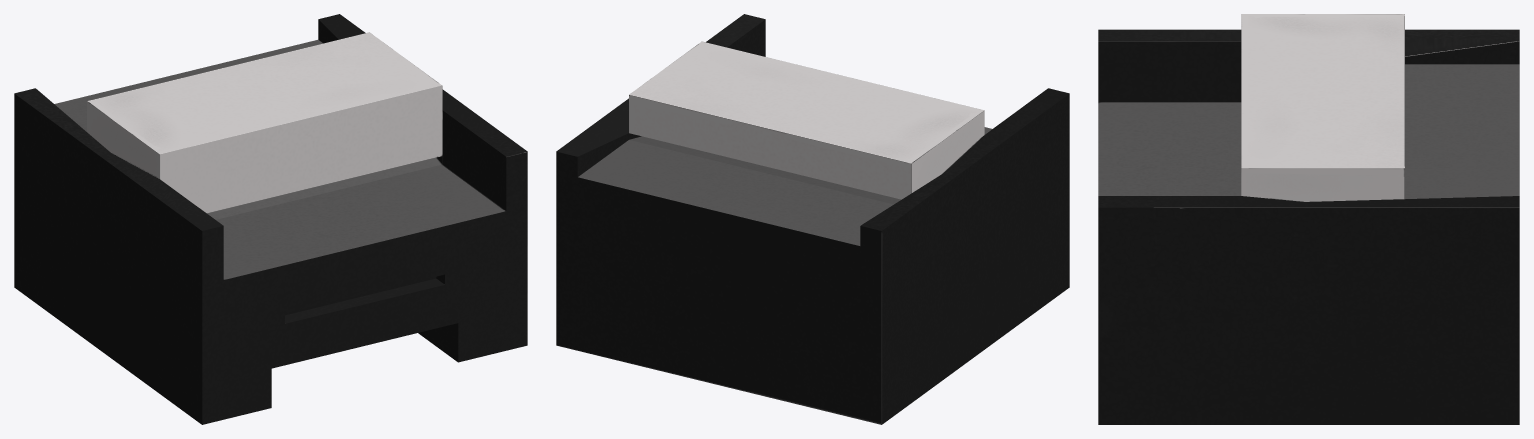
File: Task_Machine.fbx
3 renders of one model, left to right at view 1: azimuth 30°, elevation 25°; view 2: azimuth 150°, elevation 25°; view 3: azimuth 270°, elevation 25°, orthographic. The views are drawn at different scales.
Parts seen in each view (by area): view 1: polySurface2; view 2: polySurface2; view 3: polySurface2.
Boxes of the visible parts, x1,y1,x2,y2 form: polySurface2: (14,14,527,424); polySurface2: (556,14,1069,424); polySurface2: (1098,14,1519,424).
Bounding box in the file's own units: 11.64 × 7.46 × 11.64.
1 material, 1 textured.
